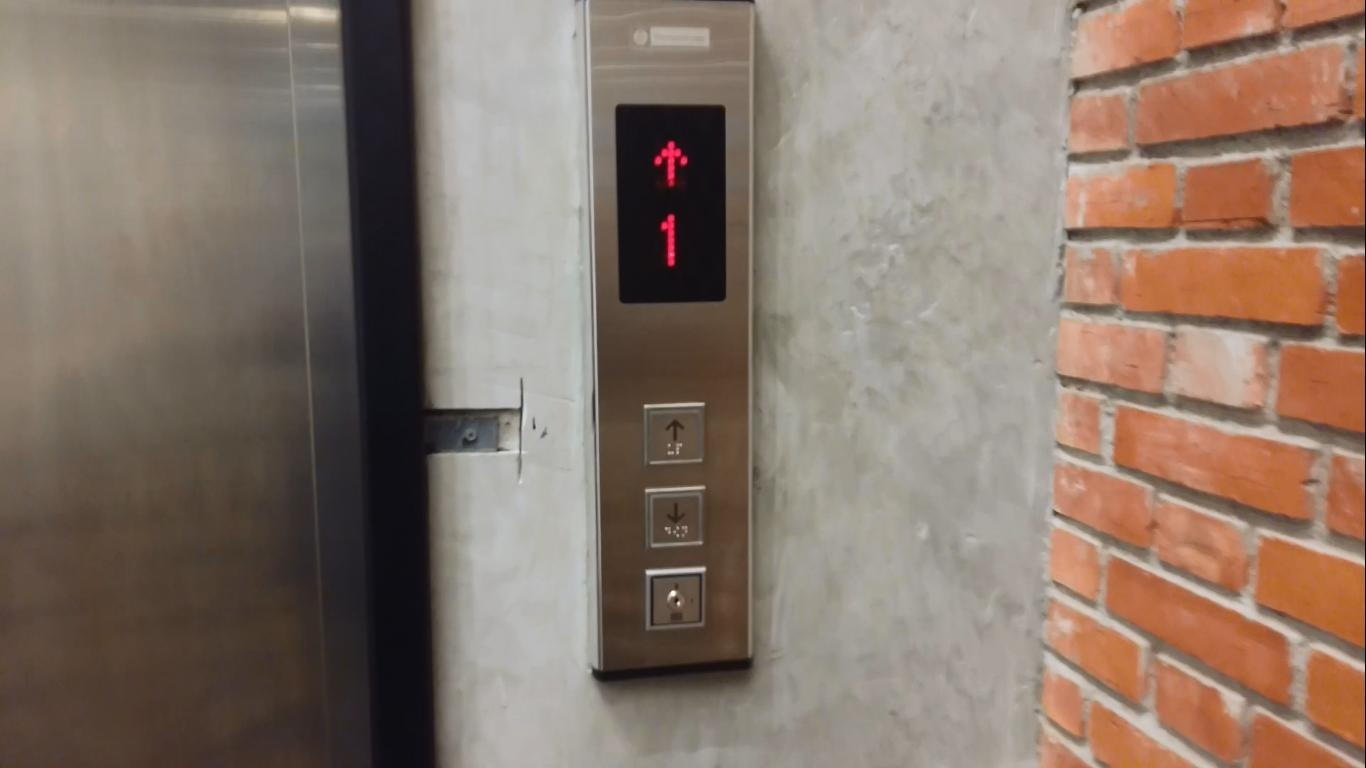down: (646, 486, 705, 548)
led: (611, 99, 730, 306)
unknown: (645, 567, 705, 629)
up: (644, 402, 707, 467)
